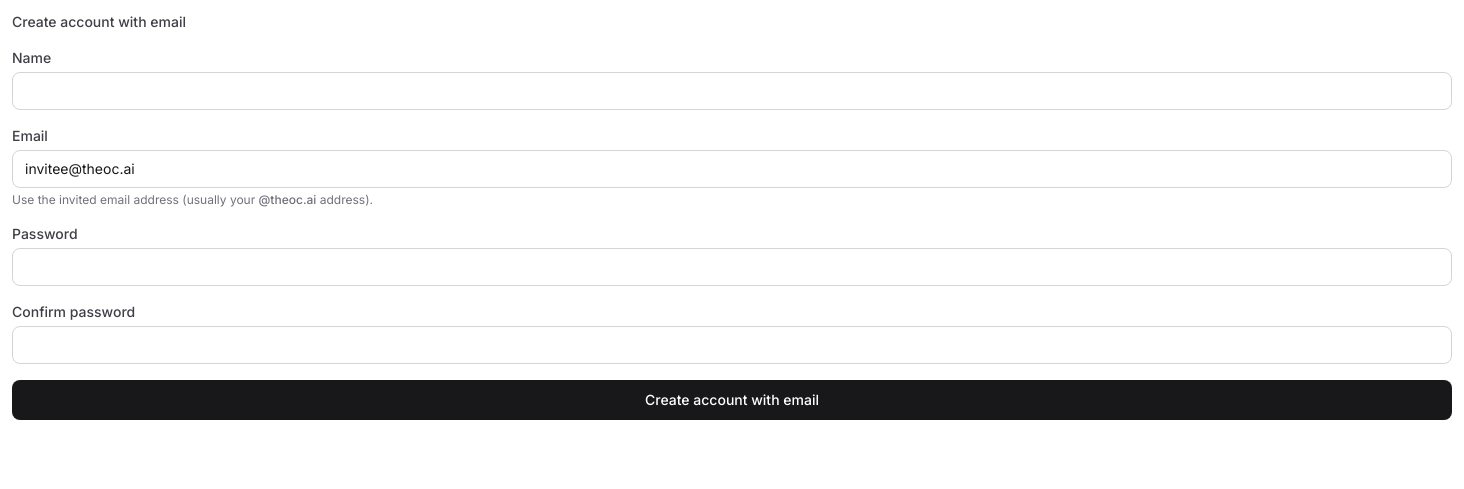
Test: SignupFormInner › error state › shows a validation error returned by the action
Step 1. Type "Test User" into the field labelled "Name" → (732, 91), box [12,72,1452,110]
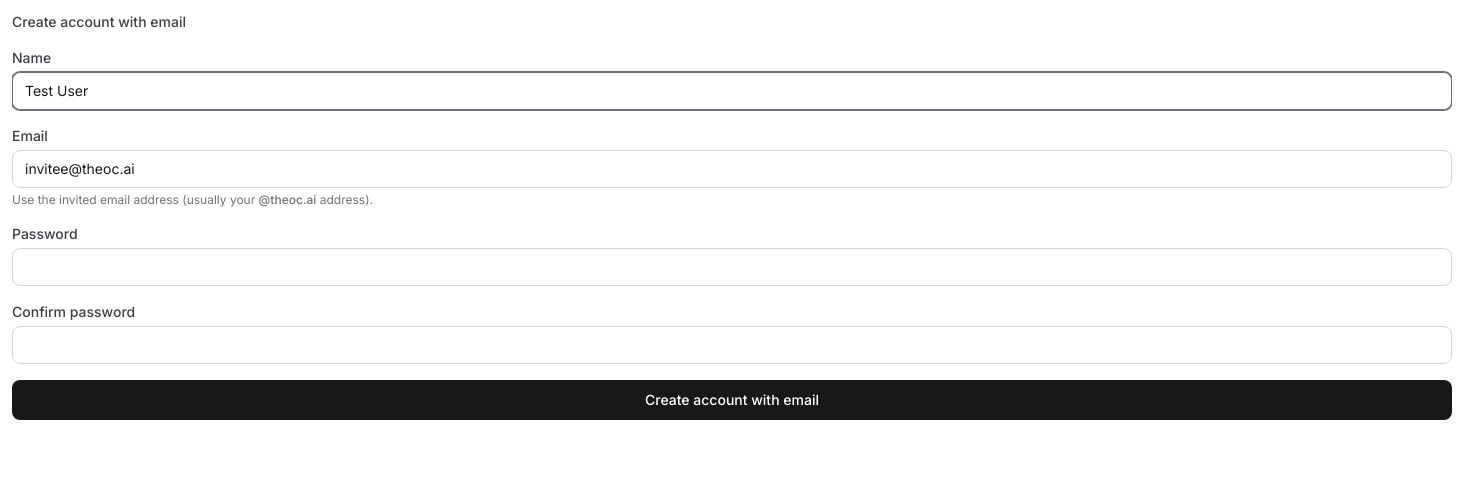
Step 2. Replace the text in the field labelled "Email" with "test@example.com" → (732, 169), box [12,150,1452,188]
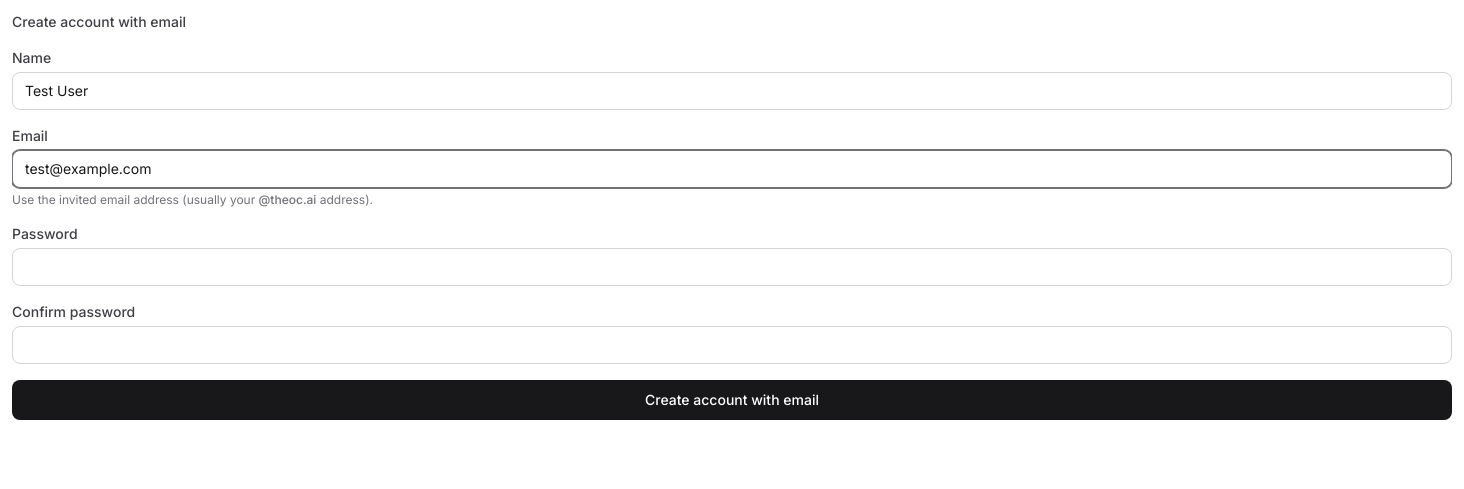
Step 3. Type "password123" into the password field labelled "Password" → (732, 267), box [12,248,1452,286]
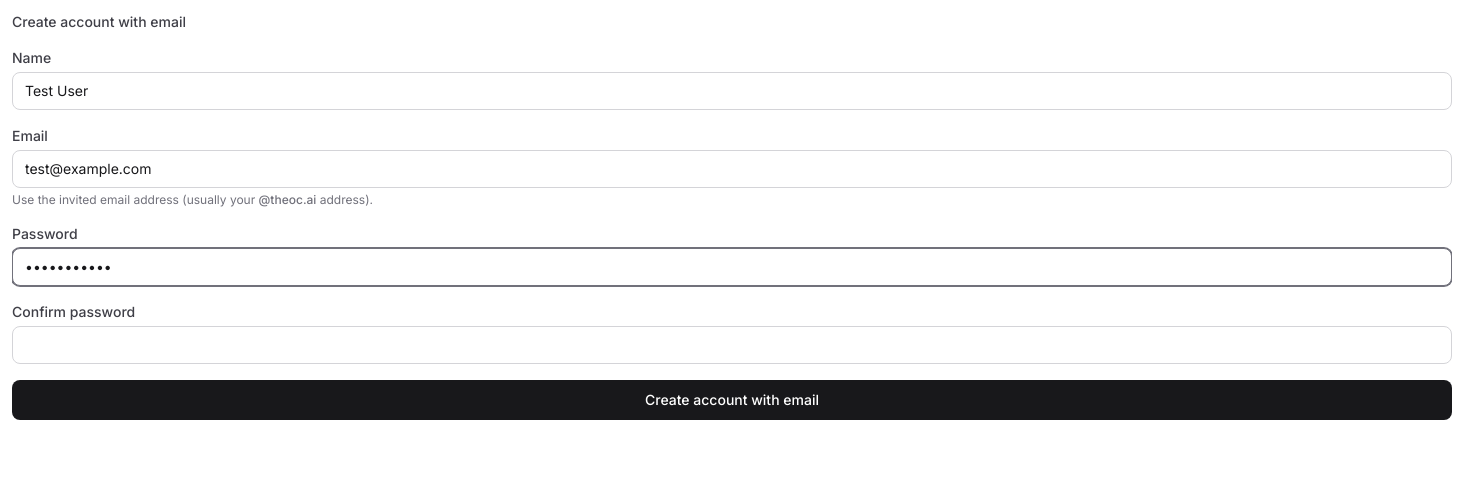
Step 4. Type "password123" into the password field labelled "Confirm password" → (732, 345), box [12,326,1452,364]
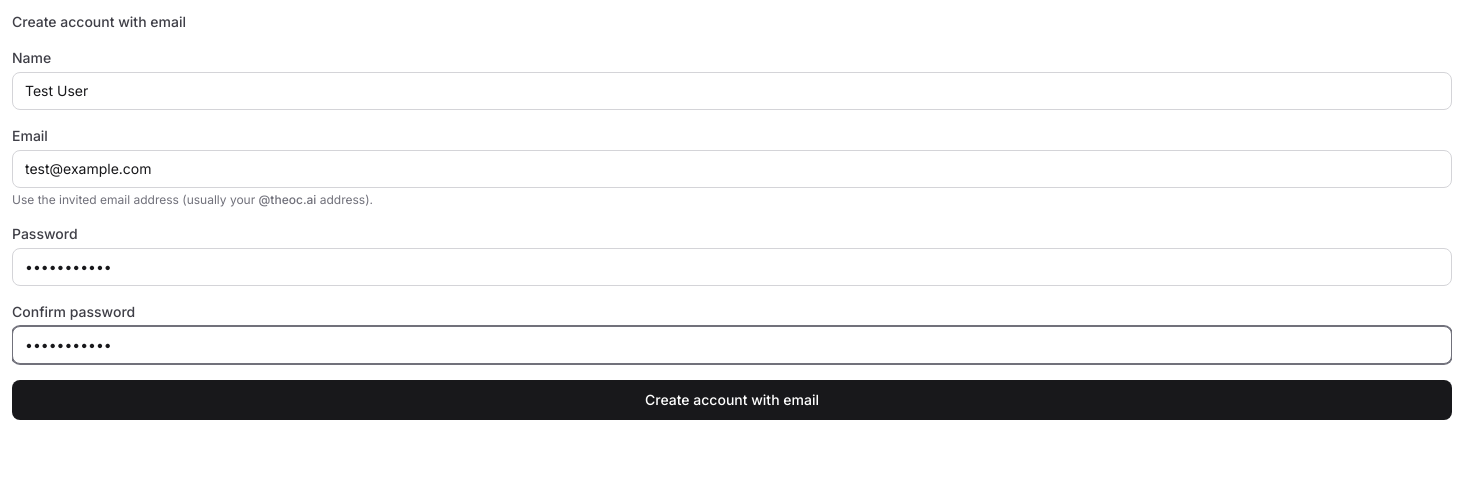
Step 5. Click the button "Create account with email" → (732, 400), box [12,380,1452,420]
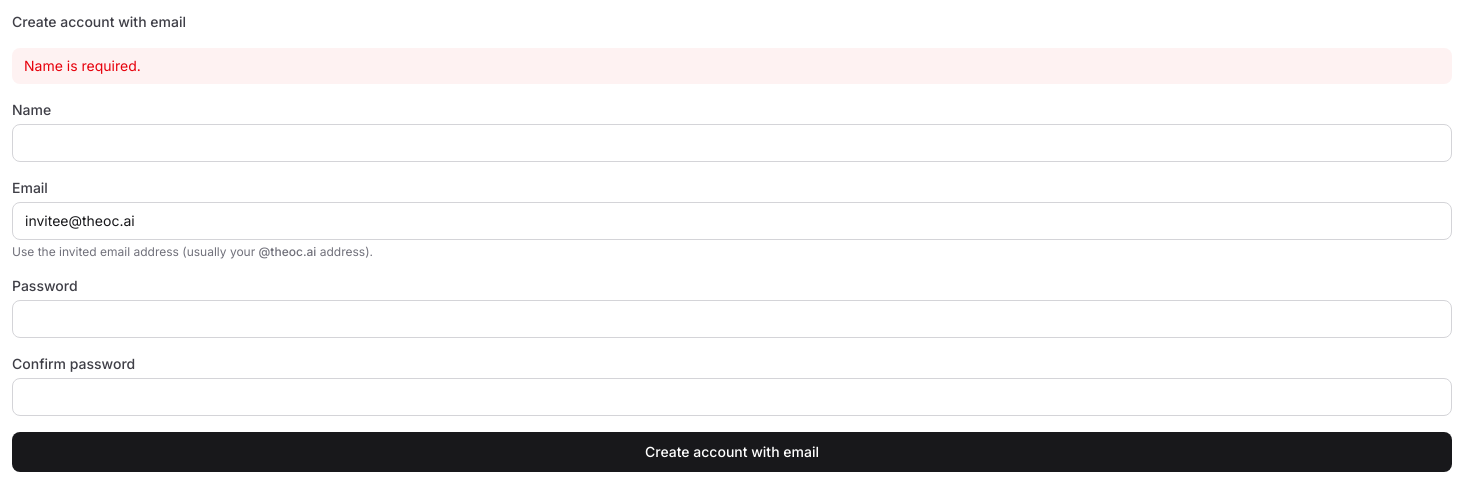
Check: the text "Name is required." is shown, box [12,48,1452,84]
